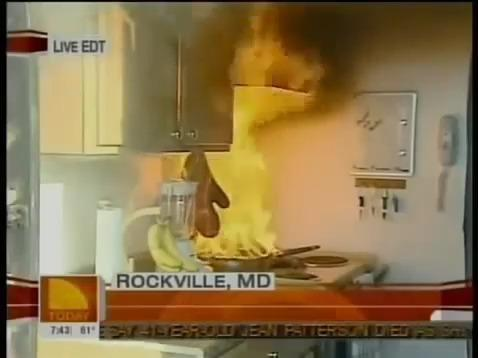fire: (173, 9, 318, 259)
